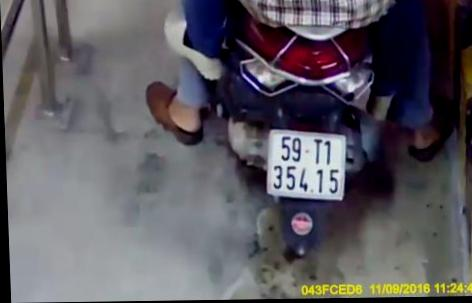License_Plate: (258, 122, 347, 209)
